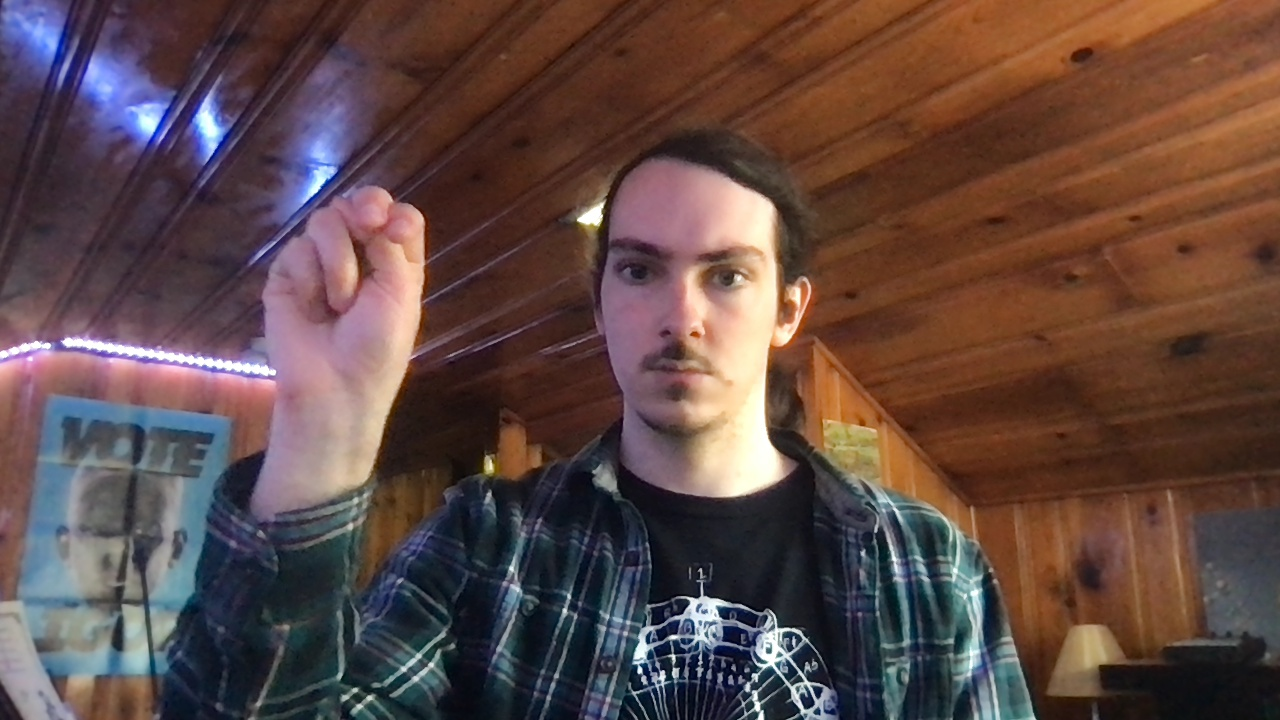n: (260, 184, 427, 411)
